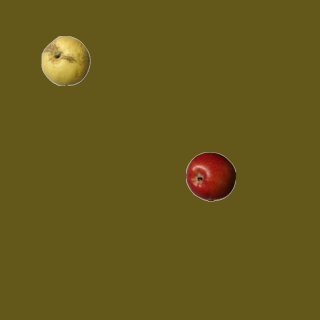Apple Braeburn: (185, 151, 235, 201)
Apple Golden 1: (40, 35, 90, 85)
